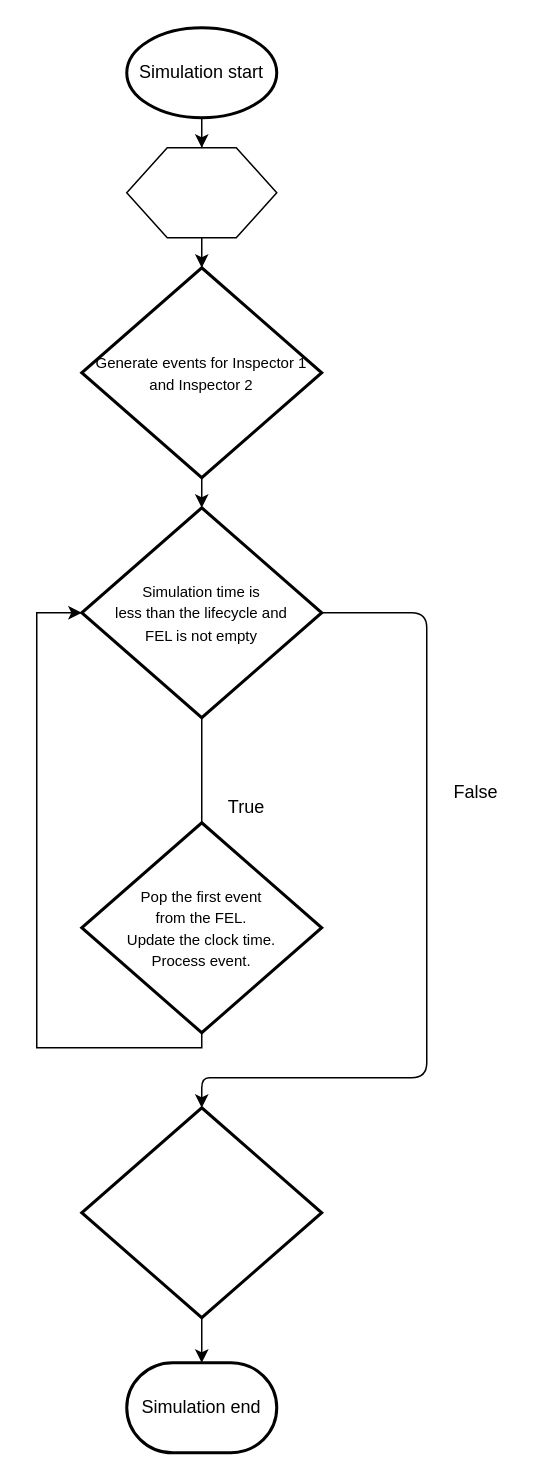
Image size: 533x1479. Some labels were removed from this diagram. The shapes that lost their labels are listed below. From the top down, each one's centre as x and y in pixels, then its label:
At point 201,192: "Initialize components".
At point 201,1212: "Display statistics.".
